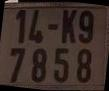-: (48, 21, 59, 31)
1: (17, 9, 26, 45)
4: (28, 10, 44, 45)
5: (54, 47, 70, 82)
7: (10, 47, 26, 81)
8: (32, 48, 47, 82), (77, 48, 91, 82)
9: (79, 10, 93, 43)
K: (63, 10, 77, 45)
